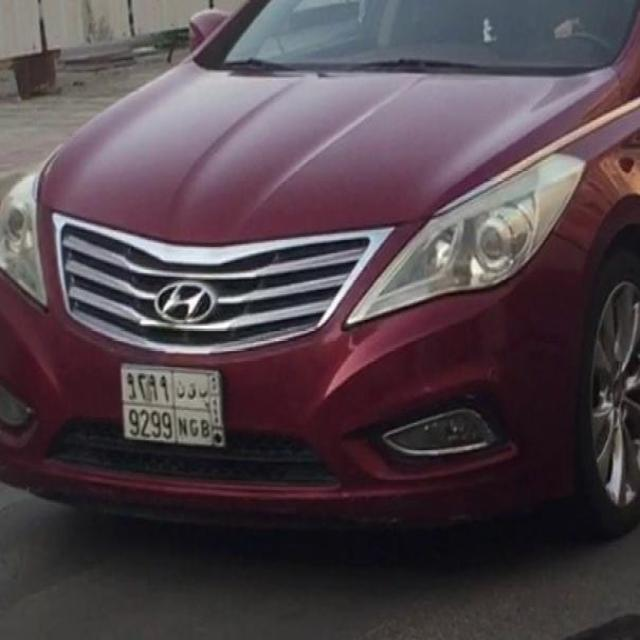Car-plate: (116, 357, 232, 459)
